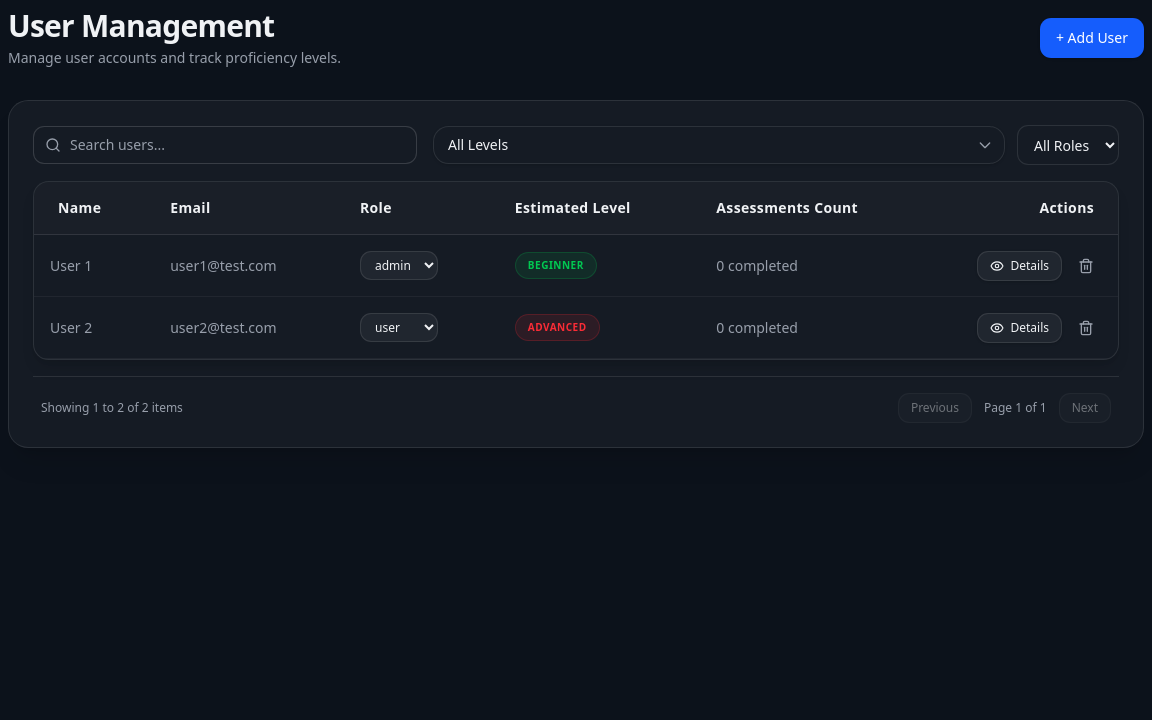
it: /manageUsers page › deletes a user from the list
Expected: the text "user1@test.com" is shown, [146, 234, 336, 296]
Click the button named "Delete user 1" at (1086, 266), box [1070, 250, 1102, 282]
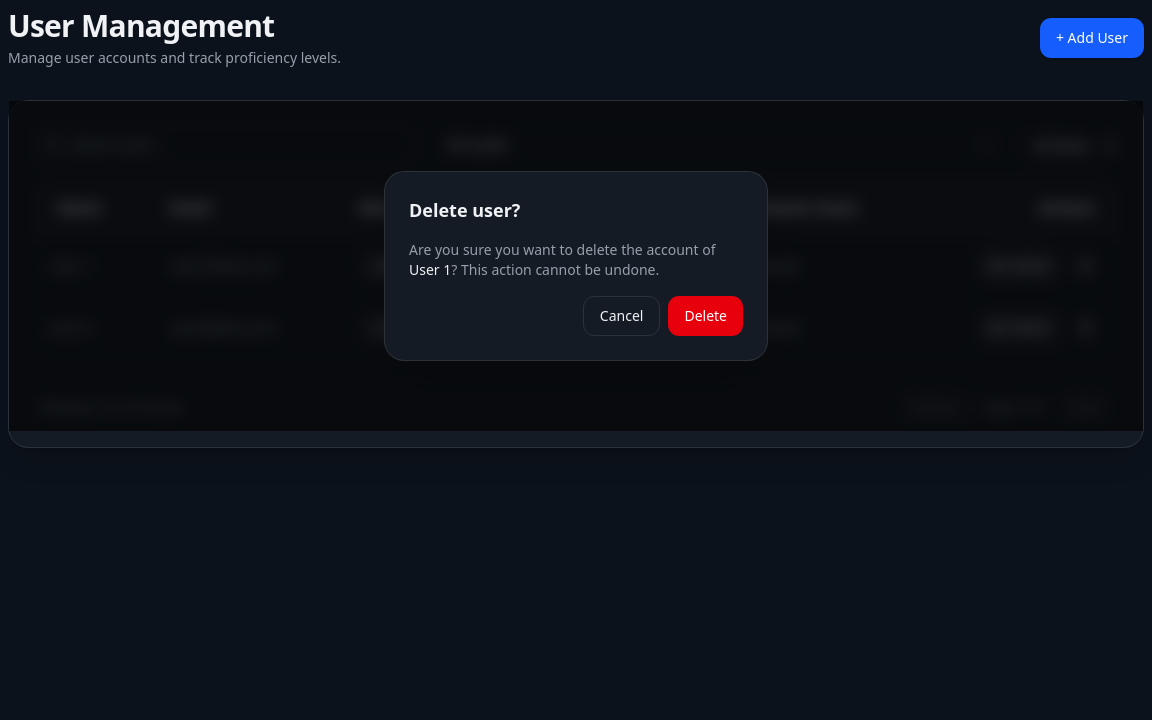
Click the button "Delete" at (706, 316), box [668, 296, 743, 336]
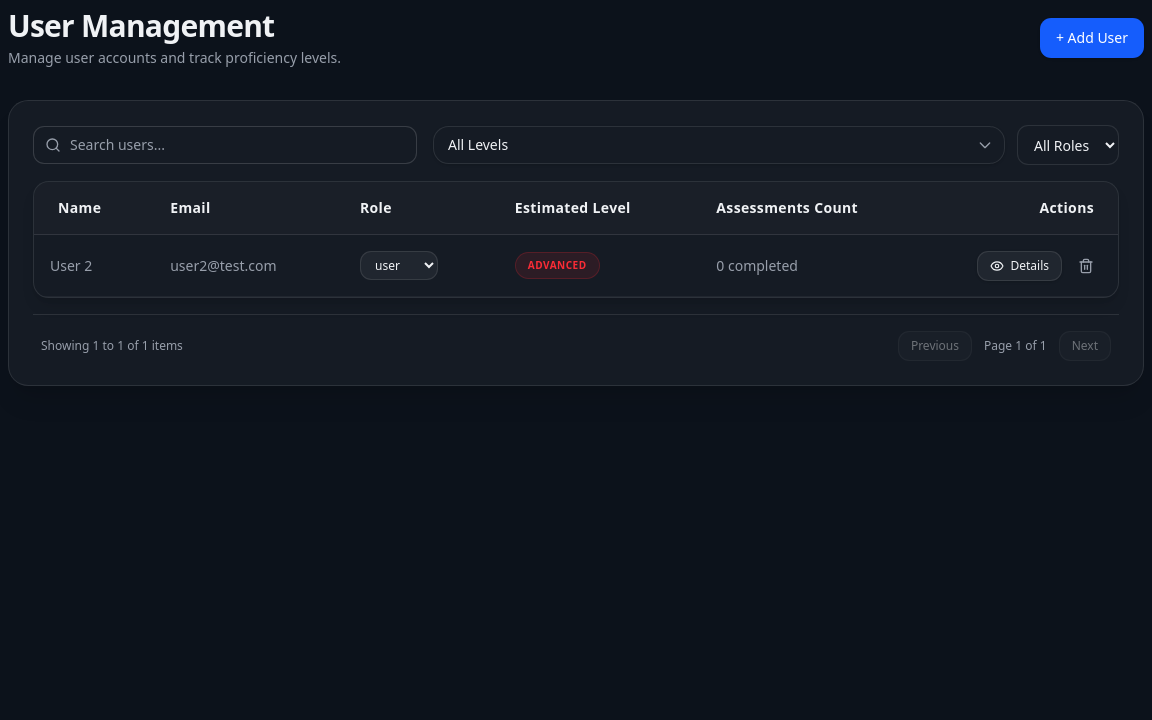
Expected: the text "user1@test.com" is gone
